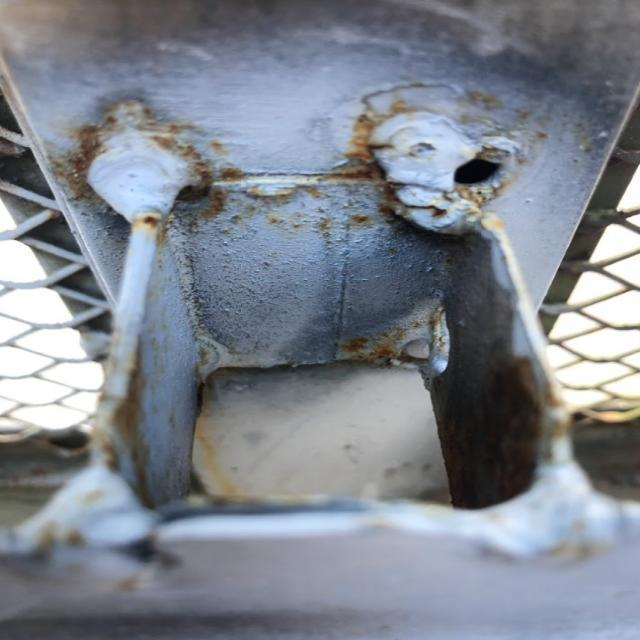Corrosion: (0, 2, 639, 569)
